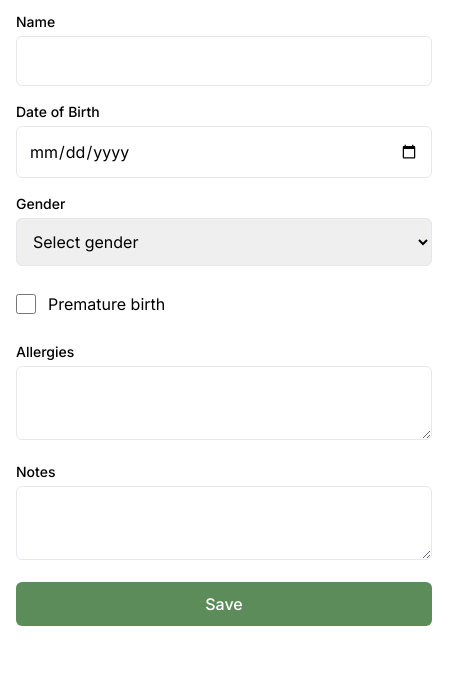
Test: ChildForm › should show validation error when DOB is empty on submit
Type "Max" into the field labelled "Name". click: point(224, 61)
box: [16, 36, 432, 86]
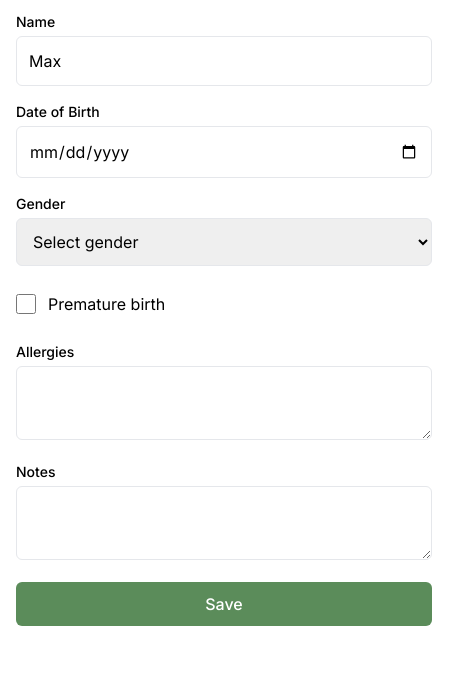
Click the button "Save". click: point(224, 604)
box: [16, 582, 432, 626]
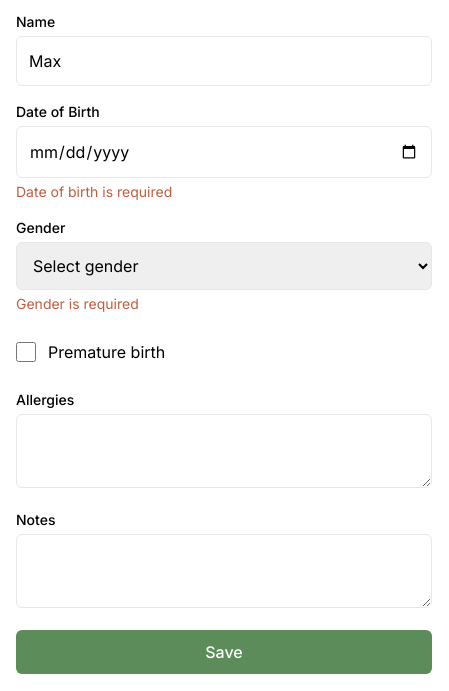
expect the text "Date of birth is required" is shown: met, box [16, 183, 172, 200]
